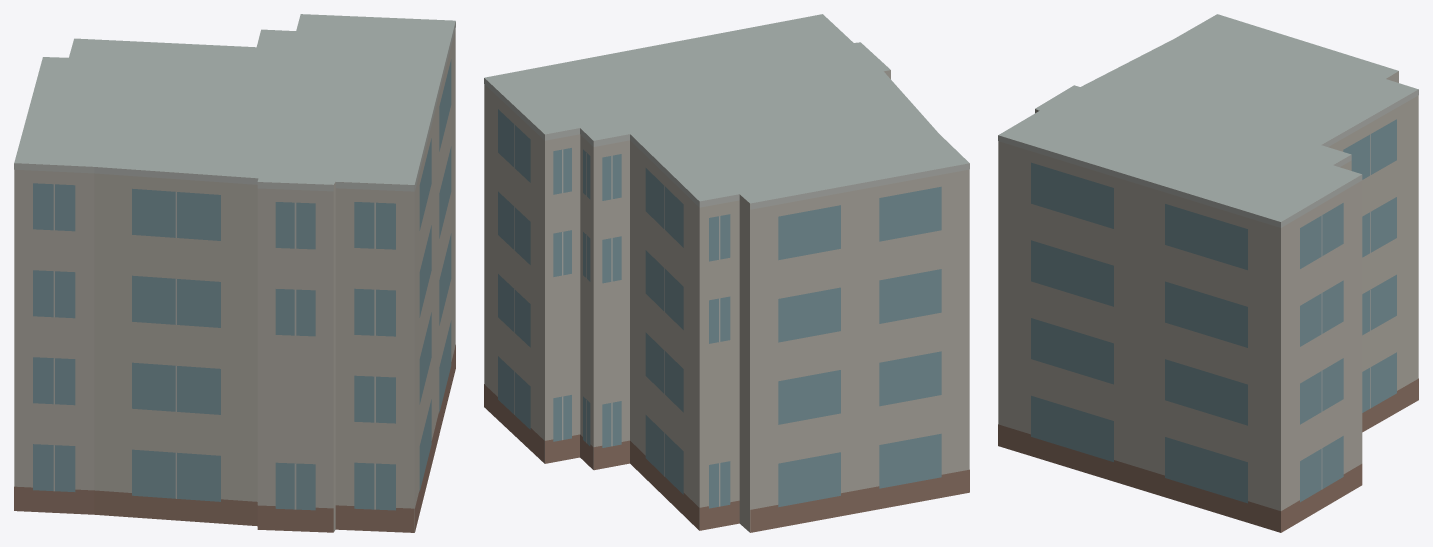
File: survey-upis-32559077.glb
3 renders of one model, left to right at view 1: azimuth 30°, elevation 25°; view 2: azimuth 150°, elevation 25°; view 3: azimuth 270°, elevation 25°, orthographic. The views are drawn at different scales.
Parts seen in each view (by area): view 1: survey-upis-32559077.tmp; view 2: survey-upis-32559077.tmp; view 3: survey-upis-32559077.tmp.
Boxes of the visible parts, box(x1,y1,x2,y2) form: survey-upis-32559077.tmp: box(14, 14, 455, 532); survey-upis-32559077.tmp: box(484, 14, 969, 532); survey-upis-32559077.tmp: box(998, 14, 1418, 532).
Size of the model in its own units: 18.53 by 12.9 by 15.83.
